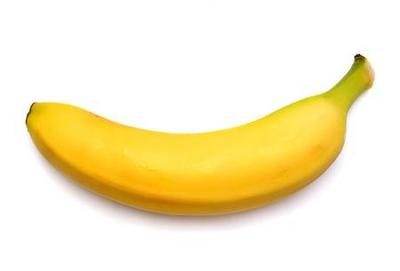banana: (0, 0, 400, 271)
